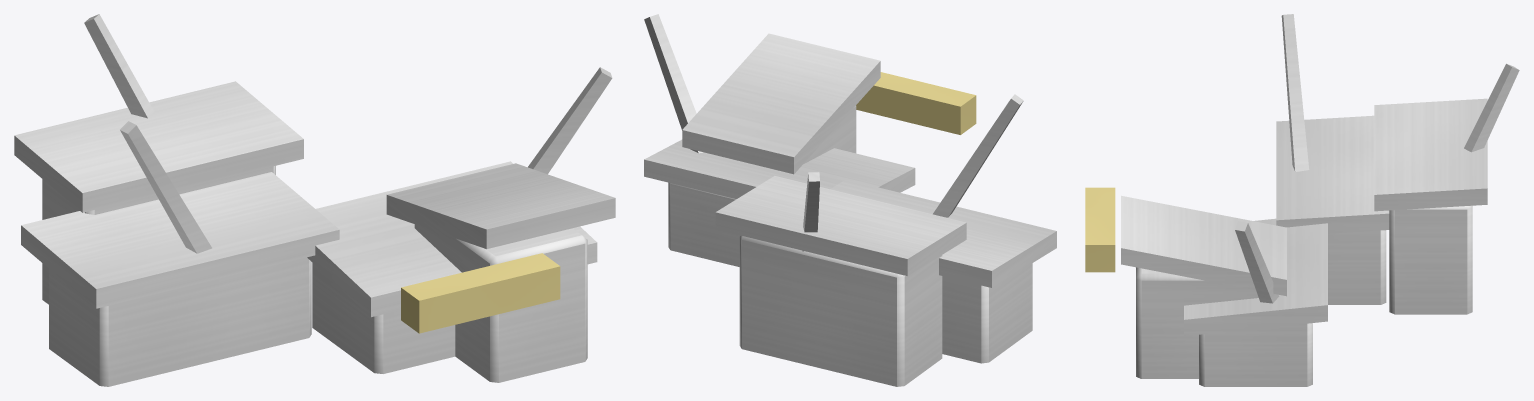
File: ship_chunk_1.obj
3 views of the same model, side by side, from view 1: azimuth 30°, elevation 25°; view 2: azimuth 150°, elevation 25°; view 3: azimuth 270°, elevation 25° (orthographic). The views are drawn at different scales.
Visible parts, largest first — view 1: retained_30, debris_block_35, retained_0, debris_block_15, retained_10, retained_20, retained_70, debris_block_25, retained_40, retained_50, retained_60, debris_block_5; view 2: debris_block_5, retained_10, retained_0, retained_20, retained_30, debris_block_35, retained_70, debris_block_25, retained_50, retained_40, debris_block_15, retained_60; view 3: retained_0, retained_30, retained_10, debris_block_5, retained_20, debris_block_15, debris_block_25, debris_block_35, retained_70, retained_40, retained_60, retained_50.
Boxes of the visible parts, bbox=[...] form: retained_30: bbox=[21, 172, 339, 308]; debris_block_35: bbox=[49, 257, 311, 386]; retained_0: bbox=[14, 81, 303, 212]; debris_block_15: bbox=[414, 224, 587, 382]; retained_10: bbox=[386, 163, 615, 249]; retained_20: bbox=[307, 161, 597, 317]; retained_70: bbox=[401, 253, 560, 333]; debris_block_25: bbox=[312, 263, 455, 373]; retained_40: bbox=[120, 121, 211, 253]; retained_50: bbox=[528, 67, 612, 174]; retained_60: bbox=[84, 14, 154, 118]; debris_block_5: bbox=[42, 165, 275, 304]; debris_block_5: bbox=[739, 235, 942, 386]; retained_10: bbox=[682, 33, 880, 174]; retained_0: bbox=[715, 176, 966, 275]; retained_20: bbox=[644, 139, 915, 198]; retained_30: bbox=[830, 179, 1056, 287]; debris_block_35: bbox=[942, 263, 1032, 363]; retained_70: bbox=[856, 72, 976, 134]; debris_block_25: bbox=[668, 182, 740, 266]; retained_50: bbox=[644, 14, 703, 153]; retained_40: bbox=[933, 94, 1023, 217]; debris_block_15: bbox=[804, 106, 856, 163]; retained_60: bbox=[802, 172, 819, 251]; retained_0: bbox=[1374, 98, 1487, 211]; retained_30: bbox=[1276, 115, 1389, 233]; retained_10: bbox=[1121, 195, 1286, 296]; debris_block_5: bbox=[1389, 205, 1472, 314]; retained_20: bbox=[1184, 218, 1327, 336]; debris_block_15: bbox=[1136, 267, 1258, 378]; debris_block_25: bbox=[1199, 323, 1312, 386]; debris_block_35: bbox=[1328, 230, 1386, 304]; retained_70: bbox=[1085, 187, 1115, 272]; retained_40: bbox=[1281, 14, 1309, 171]; retained_60: bbox=[1464, 63, 1519, 152]; retained_50: bbox=[1235, 221, 1279, 303].
Bounding box in the file's own units: 1.58 × 0.8064 × 1.44.
